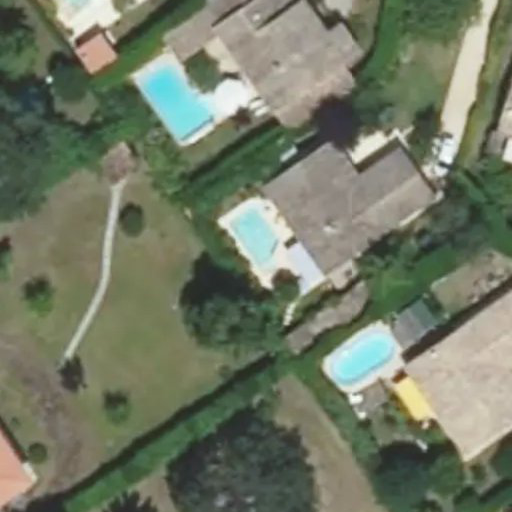pool: (231, 223, 292, 260)
